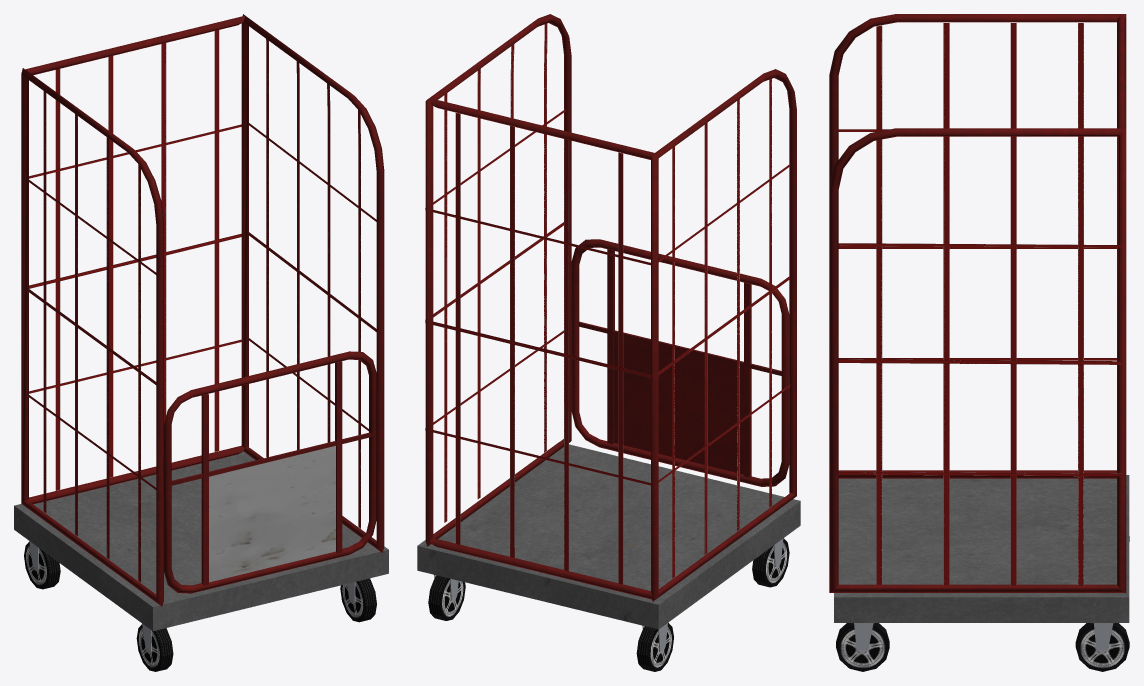
File: Trolley Cart Lowpoly 1.FBX
The picture shows the model from 3 angles, left to right: view 1: azimuth 30°, elevation 25°; view 2: azimuth 150°, elevation 25°; view 3: azimuth 270°, elevation 25°; orthographic projection. The views are drawn at different scales.
Visible parts, largest first — view 1: Trolley Cart Lowpoly 1, Trolley Cart Lowpoly 1_Wheel_04, Trolley Cart Lowpoly 1_Wheel_01, Trolley Cart Lowpoly 1_Wheel_03; view 2: Trolley Cart Lowpoly 1, Trolley Cart Lowpoly 1_Wheel_03, Trolley Cart Lowpoly 1_Wheel_02, Trolley Cart Lowpoly 1_Wheel_04; view 3: Trolley Cart Lowpoly 1, Trolley Cart Lowpoly 1_Wheel_02, Trolley Cart Lowpoly 1_Wheel_01.
Part boxes in pixels (left/top/right/bottom): Trolley Cart Lowpoly 1: left=14, top=14, right=388, bottom=653; Trolley Cart Lowpoly 1_Wheel_04: left=136, top=624, right=173, bottom=671; Trolley Cart Lowpoly 1_Wheel_01: left=340, top=578, right=376, bottom=622; Trolley Cart Lowpoly 1_Wheel_03: left=24, top=542, right=60, bottom=589; Trolley Cart Lowpoly 1: left=417, top=14, right=800, bottom=652; Trolley Cart Lowpoly 1_Wheel_03: left=636, top=622, right=673, bottom=671; Trolley Cart Lowpoly 1_Wheel_02: left=428, top=575, right=465, bottom=620; Trolley Cart Lowpoly 1_Wheel_04: left=752, top=538, right=789, bottom=587; Trolley Cart Lowpoly 1: left=829, top=14, right=1129, bottom=653; Trolley Cart Lowpoly 1_Wheel_02: left=1075, top=623, right=1129, bottom=671; Trolley Cart Lowpoly 1_Wheel_01: left=836, top=623, right=889, bottom=671.
Bounding box in the file's own units: 1.31 × 2.73 × 1.36.
1 material, 1 textured.
